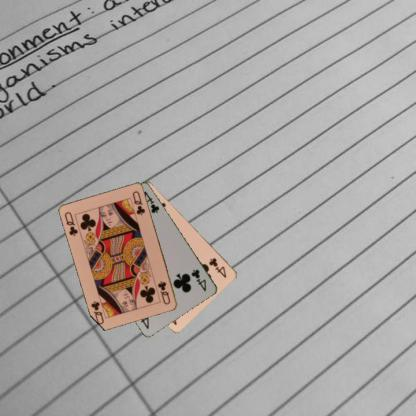4c: (206, 255, 228, 279), (189, 267, 207, 293)
Qc: (62, 209, 79, 238), (156, 278, 172, 306)
